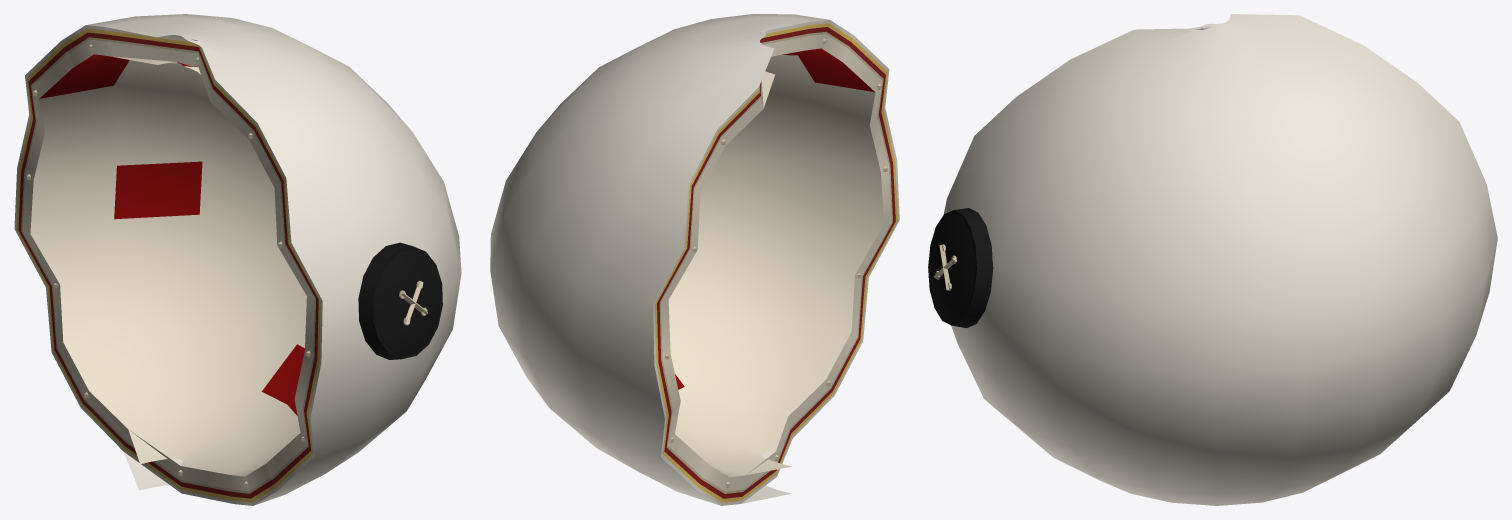
Rendered from survivor_skull_L.glb.
3 views of the same model, side by side, from view 1: azimuth 30°, elevation 25°; view 2: azimuth 150°, elevation 25°; view 3: azimuth 270°, elevation 25° (orthographic). The views are drawn at different scales.
Parts seen in each view (by area): view 1: survivor_skull_L, eye_L.001; view 2: survivor_skull_L; view 3: survivor_skull_L, eye_L.001.
Boxes of the visible parts, x1,y1,x2,y2 form: survivor_skull_L: (14, 14, 461, 505); eye_L.001: (358, 242, 442, 359); survivor_skull_L: (490, 14, 899, 505); survivor_skull_L: (943, 14, 1497, 505); eye_L.001: (928, 208, 993, 328).
Size of the model in its own units: 0.1409 by 0.2097 by 0.2368.
